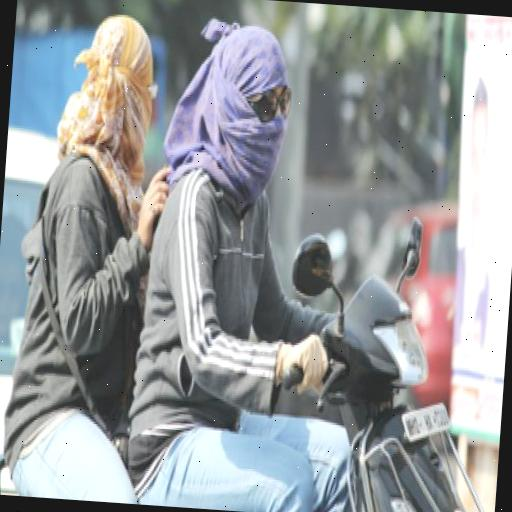no helmet: (124, 0, 469, 511)
